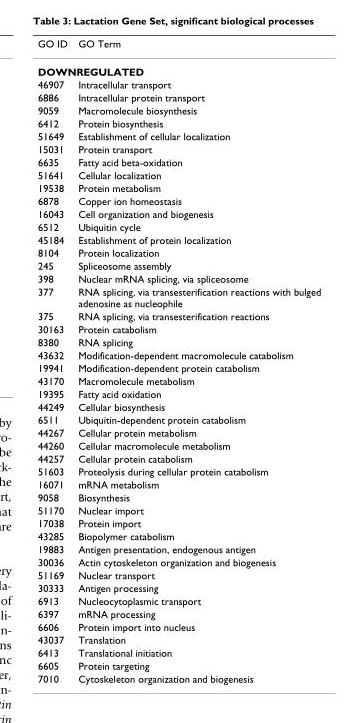table: (37, 37, 320, 684)
table column: (72, 37, 320, 684), (37, 37, 72, 684)
table column header: (37, 37, 320, 56)
table projected row header: (37, 56, 320, 77)
table row: (37, 284, 320, 309), (37, 56, 320, 77), (37, 37, 320, 56), (37, 77, 320, 90), (37, 90, 320, 103), (37, 103, 320, 116), (37, 116, 320, 129), (37, 129, 320, 142), (37, 142, 320, 155), (37, 155, 320, 168), (37, 168, 320, 181), (37, 181, 320, 194), (37, 206, 320, 219), (37, 219, 320, 232), (37, 232, 320, 245), (37, 245, 320, 258), (37, 258, 320, 271), (37, 271, 320, 284), (37, 309, 320, 322), (37, 322, 320, 335), (37, 335, 320, 348), (37, 348, 320, 361), (37, 373, 320, 386), (37, 386, 320, 399), (37, 399, 320, 412), (37, 412, 320, 425), (37, 425, 320, 438), (37, 438, 320, 451), (37, 451, 320, 464), (37, 464, 320, 477), (37, 477, 320, 490), (37, 490, 320, 503), (37, 503, 320, 516), (37, 516, 320, 529), (37, 529, 320, 542), (37, 542, 320, 555), (37, 555, 320, 568), (37, 568, 320, 581), (37, 581, 320, 594), (37, 606, 320, 619), (37, 619, 320, 632), (37, 632, 320, 645), (37, 645, 320, 658), (37, 658, 320, 671), (37, 671, 320, 684), (37, 194, 320, 206), (37, 361, 320, 373), (37, 594, 320, 606)
